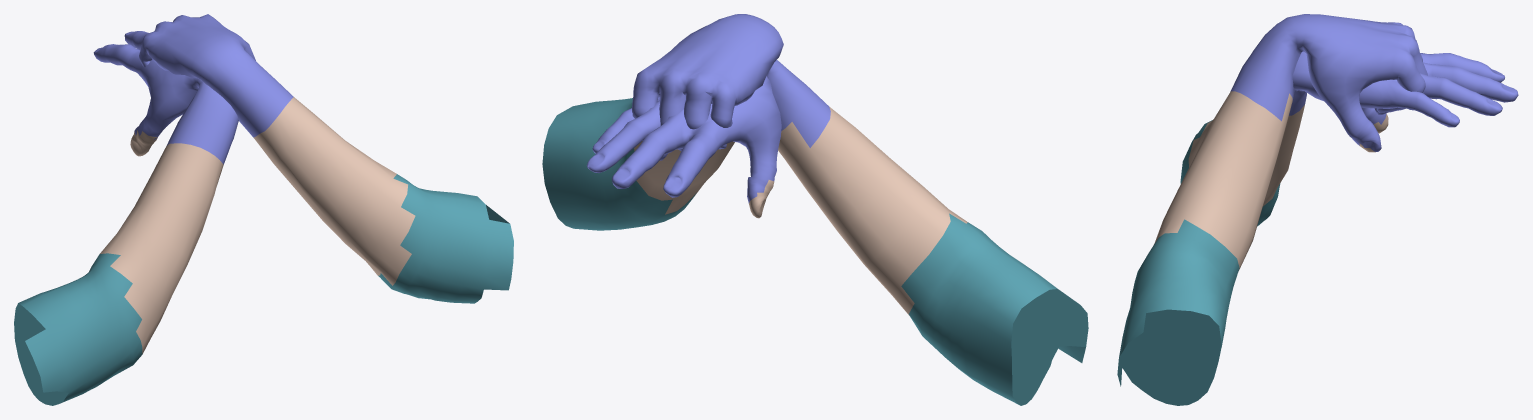
File: mains_rcp.glb
3 renders of one model, left to right at view 1: azimuth 30°, elevation 25°; view 2: azimuth 150°, elevation 25°; view 3: azimuth 270°, elevation 25°, orthographic. The views are drawn at different scales.
Visible parts, largest first — view 1: mains_rcp; view 2: mains_rcp; view 3: mains_rcp.
Boxes of the visible parts, x1,y1,x2,y2 form: mains_rcp: (14,14,513,405); mains_rcp: (542,14,1088,405); mains_rcp: (1117,14,1518,405).
Bounding box in the file's own units: 0.5296 × 0.3216 × 0.3703.
